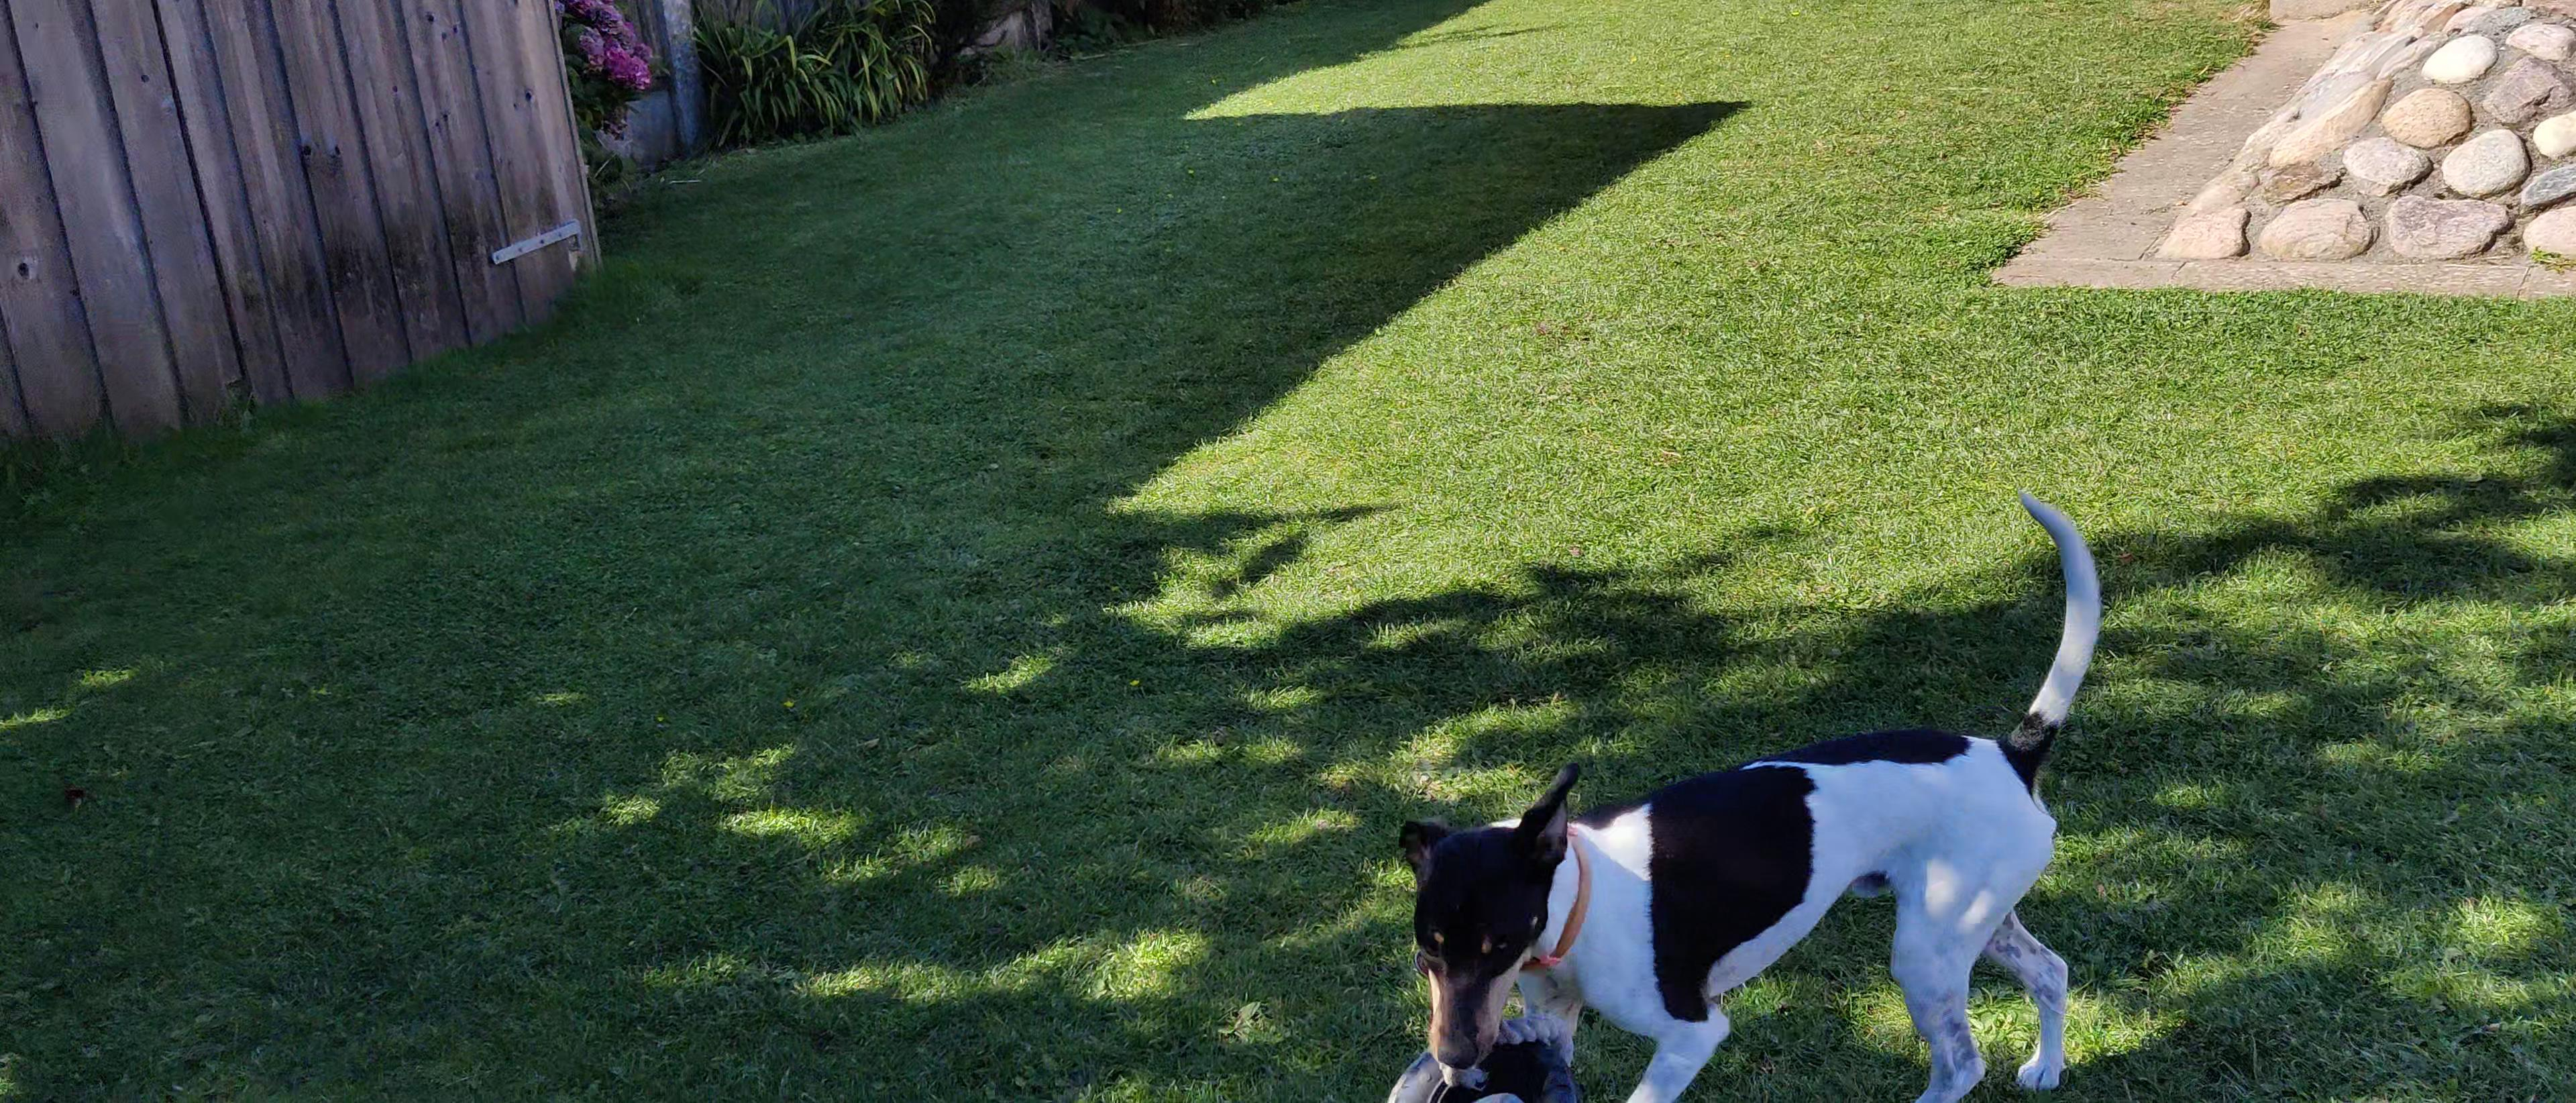Dog: (1357, 468, 2137, 1103)
